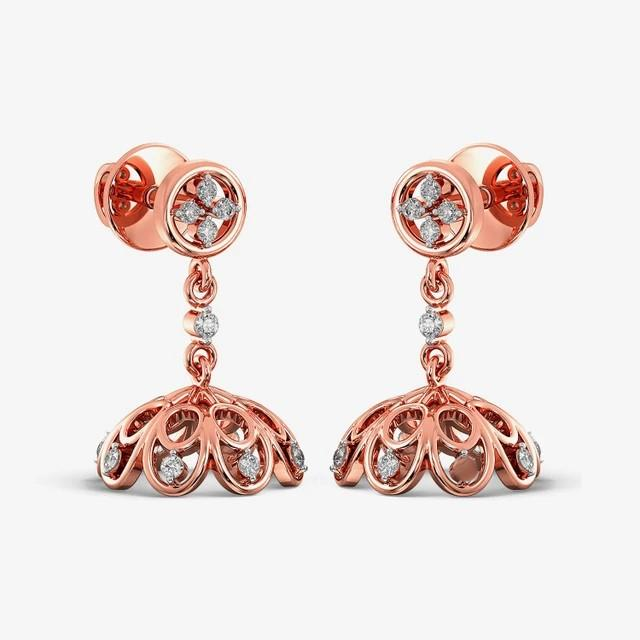missing gem: (453, 457, 477, 482)
